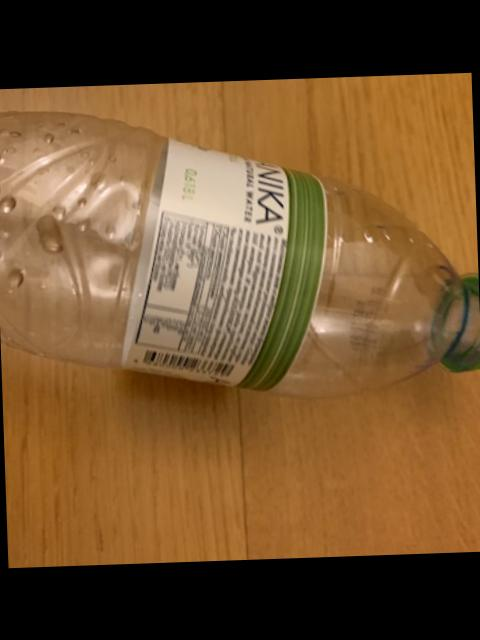plastic: (0, 110, 480, 394)
